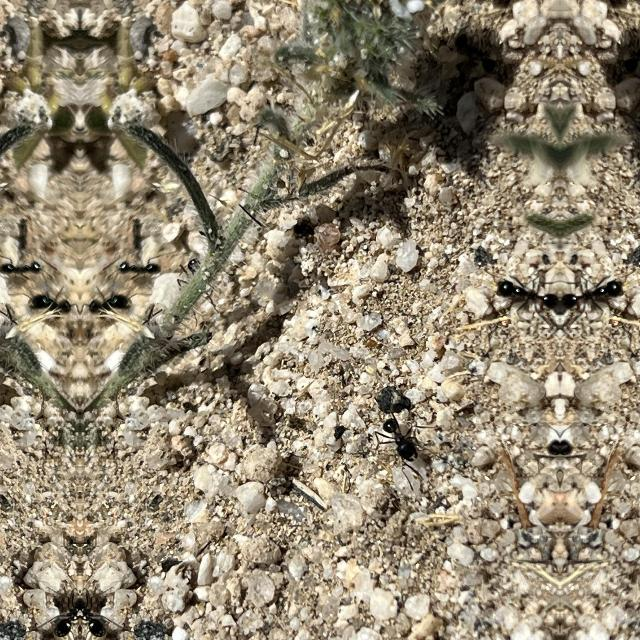Messor: (496, 259, 560, 327), (560, 259, 624, 327), (371, 406, 434, 472), (80, 570, 122, 640), (38, 570, 80, 640), (13, 283, 78, 321), (82, 283, 146, 321), (116, 250, 166, 280), (0, 250, 43, 280)
